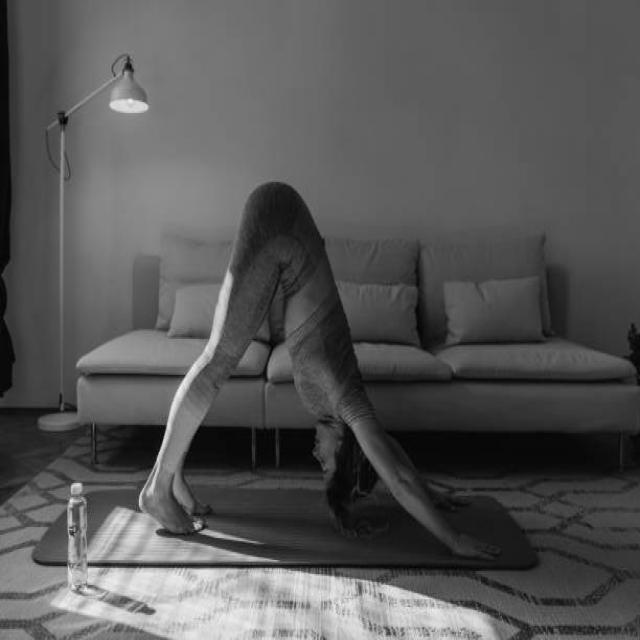Downward-Facing_Dog: (137, 177, 527, 568)
